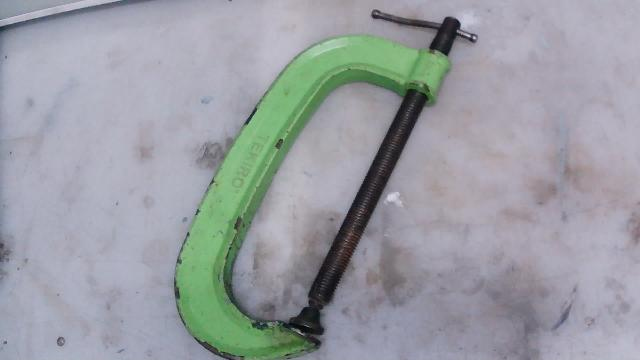tekiro_c_clamp: (123, 1, 492, 360)
